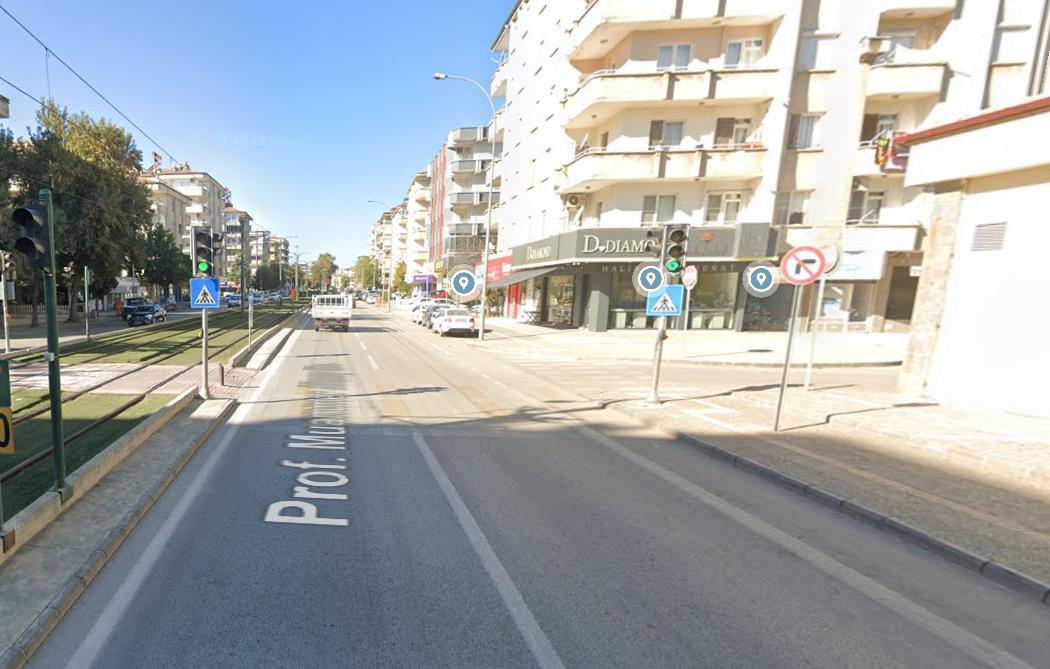greenlight: (660, 224, 686, 278), (191, 227, 214, 274)
rightturnsareforbidden: (781, 245, 824, 287)
